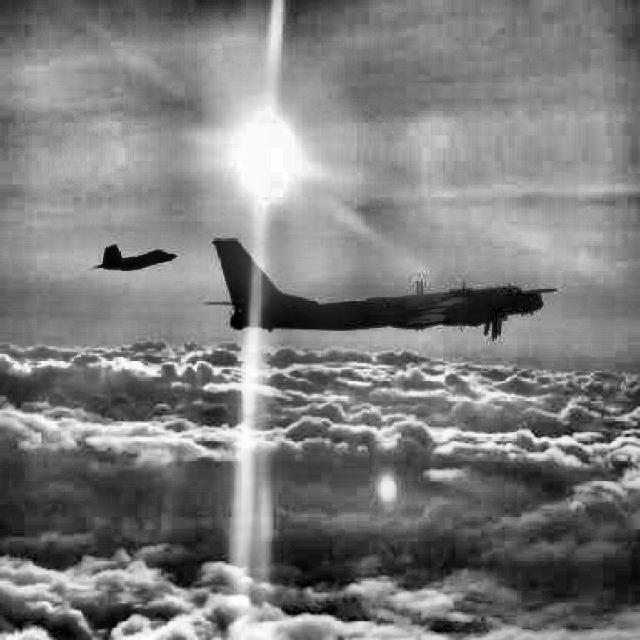F22: (94, 244, 177, 270)
Tu95: (203, 233, 557, 341)
